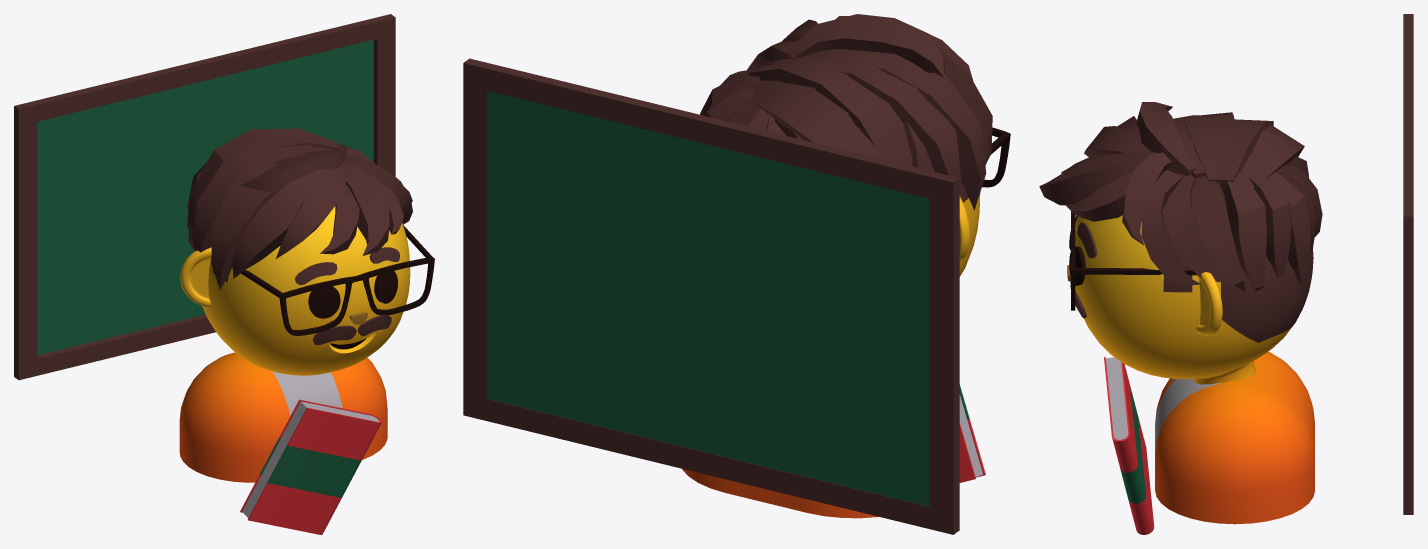
Rendered from man_teacher.gltf.
3 views of the same model, side by side, from view 1: azimuth 30°, elevation 25°; view 2: azimuth 150°, elevation 25°; view 3: azimuth 270°, elevation 25° (orthographic). The views are drawn at different scales.
Parts seen in each view (by area): view 1: Plane.035, Cube.1024, Roundcube.082, Sphere.041, Cube.1032, Plane.033, Circle.569, Cylinder.074, Circle.572, Circle.571; view 2: Plane.035, Cube.1024, Sphere.041, Cube.1032, Roundcube.082, Plane.033; view 3: Cube.1024, Sphere.041, Roundcube.082, Plane.035, Cube.1032, Cylinder.074, Plane.033.
Boxes of the visible parts, x1,y1,x2,y2 form: Plane.035: (14,14,395,380); Cube.1024: (187,128,412,289); Roundcube.082: (202,206,410,375); Sphere.041: (179,352,387,482); Cube.1032: (240,399,381,534); Plane.033: (241,225,434,335); Circle.569: (308,271,397,318); Cylinder.074: (180,247,211,307); Circle.572: (313,315,391,345); Circle.571: (295,247,399,285); Plane.035: (463,58,959,534); Cube.1024: (700,14,992,210); Sphere.041: (682,469,878,518); Cube.1032: (959,384,985,482); Roundcube.082: (959,182,980,276); Plane.033: (982,127,1010,187); Cube.1024: (1039,102,1322,292); Sphere.041: (1155,351,1314,524); Roundcube.082: (1075,171,1313,384); Plane.035: (1403,14,1413,514); Cube.1032: (1104,357,1154,534); Cylinder.074: (1196,272,1222,335); Plane.033: (1071,211,1196,310).
Size of the model in its own units: 2.99 by 2.9 by 2.34.
9 materials, 3 textured.
